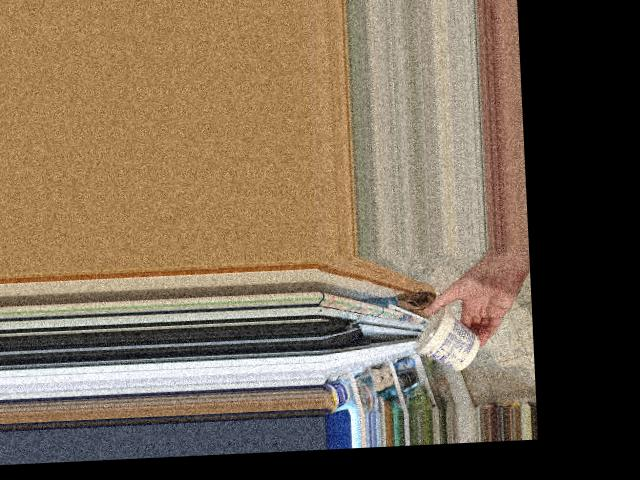cotage: (409, 310, 472, 363)
